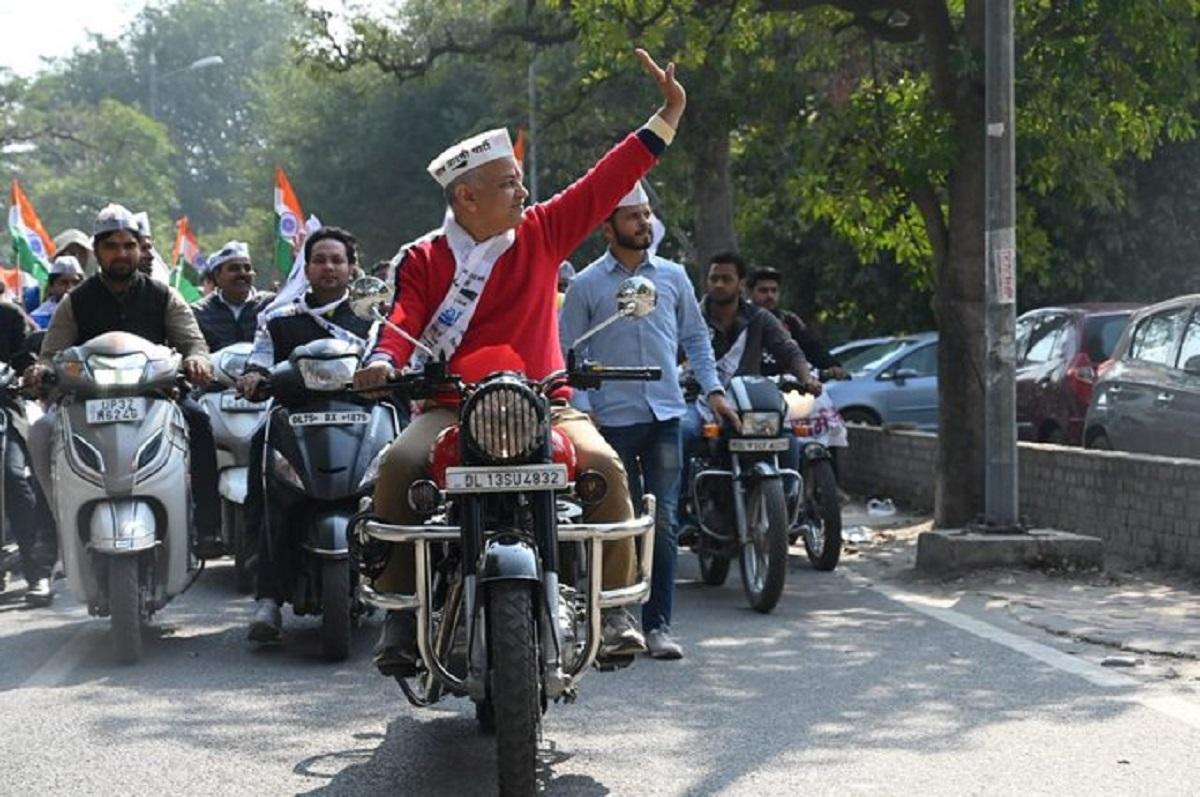nohelmet: (407, 110, 546, 241), (81, 199, 162, 296), (293, 226, 361, 301), (197, 236, 258, 309), (701, 247, 747, 311), (753, 260, 797, 323)
